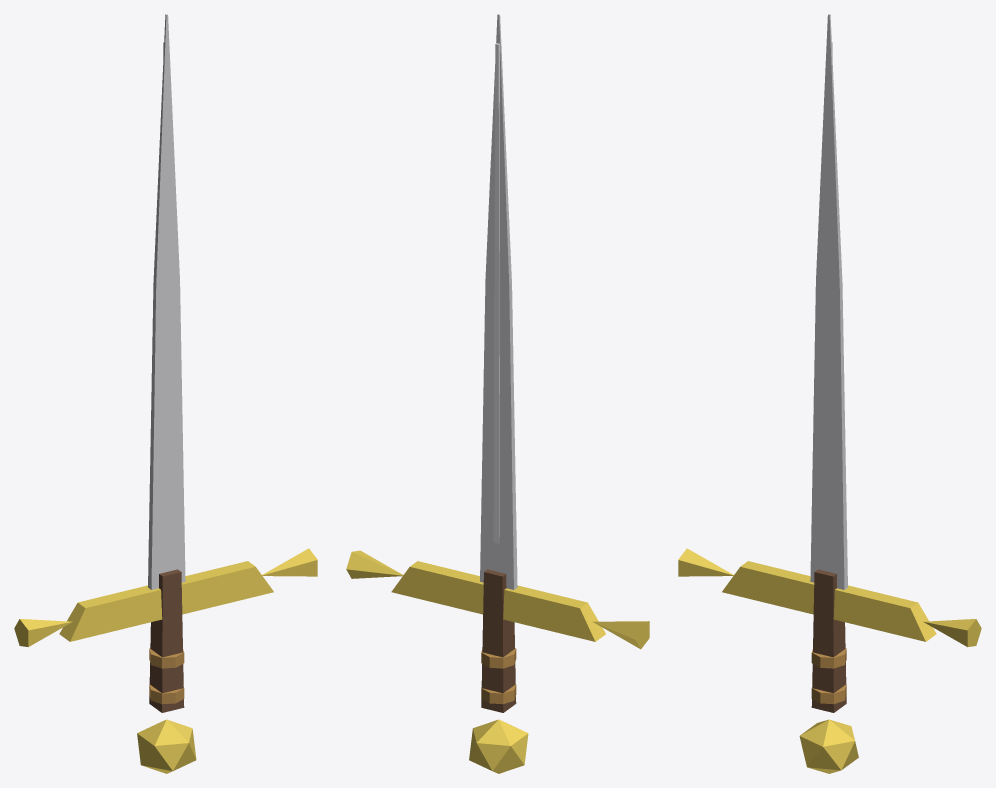
File: fantasy_sword.fbx
The picture shows the model from 3 angles, left to right: view 1: azimuth 30°, elevation 25°; view 2: azimuth 150°, elevation 25°; view 3: azimuth 330°, elevation 25°; orthographic projection.
Visible parts, largest first — view 1: fantasy_sword; view 2: fantasy_sword; view 3: fantasy_sword.
Part boxes in pixels (left/top/right/bottom): fantasy_sword: left=14, top=14, right=317, bottom=773; fantasy_sword: left=346, top=14, right=649, bottom=773; fantasy_sword: left=678, top=14, right=981, bottom=773.
Size of the model in its own units: 0.85 by 2.13 by 0.1446.
